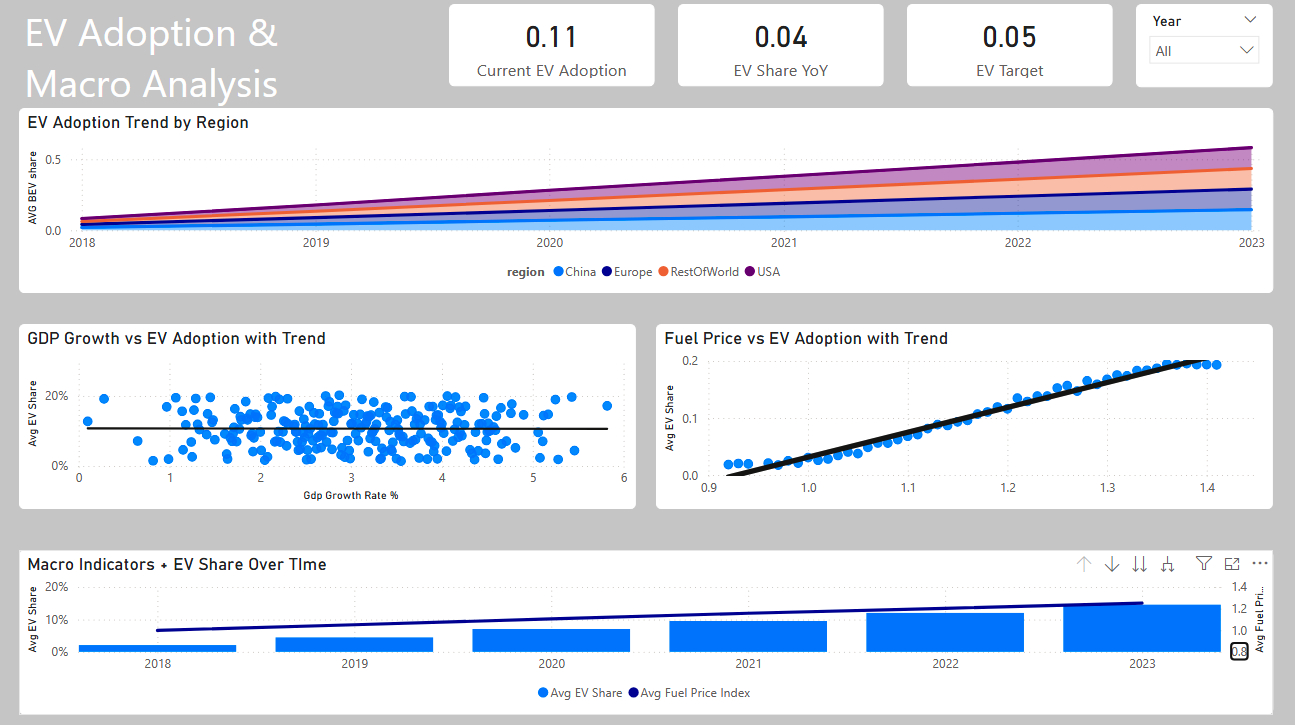

This screenshot's page, from the dashboard's own definition file:
{"tool":"powerbi","page":{"name":"EV Adoption & Macro Trends","canvas":[1280,720],"ordinal":4},"visuals":[{"type":"card","fields":{"Values":["public bmw_data.AVG BEV share"]},"box":[439.1,8.8,200,80],"z":0},{"type":"card","fields":{"Values":["public bmw_data.1EV Share YoY"]},"box":[661.7,8.8,200,80],"z":1000},{"type":"card","fields":{"Values":["Date.EV Target"]},"box":[884.3,8.8,200,80],"z":2000},{"type":"stackedAreaChart","title":"EV Adoption Trend by Region","fields":{"Y":["public bmw_data.AVG BEV share"],"Category":["Date.Date.Variation.Date Hierarchy.Year"],"Series":["public bmw_data.region"]},"box":[20.4,109.9,1219.7,179.9],"z":3000},{"type":"scatterChart","title":"Fuel Price vs EV Adoption with Trend","fields":{"X":["public bmw_data.fuel_price_index"],"Y":["public bmw_data.AVG BEV share"]},"box":[640,320,600.1,179.9],"z":4000},{"type":"scatterChart","title":"GDP Growth vs EV Adoption with Trend","fields":{"X":["public bmw_data.gdp_growth"],"Y":["public bmw_data.Avg EV Share"]},"box":[20,320,600,180],"z":5000},{"type":"lineClusteredColumnComboChart","title":"Macro Indicators + EV Share Over TIme","fields":{"Category":["Date.Date.Variation.Date Hierarchy.Year","Date.Date.Variation.Date Hierarchy.Month"],"Y2":["Avg(public bmw_data.fuel_price_index)"],"Y":["public bmw_data.Avg EV Share"]},"box":[20,540,1220,160],"z":6000},{"type":"slicer","fields":{"Values":["Date.Date.Variation.Date Hierarchy.Year"]},"box":[1106.9,8.8,133.3,80.7],"z":7000},{"type":"textbox","box":[20.4,5,358.9,108],"z":8000}]}

Visuals, with their boxes in screenshot pixels (x1, y1, x2, y2), scaled from the page's 1280x720 canvas onto the 1295x725 screenshot:
card - public bmw_data.AVG BEV share: (444,9,647,89)
card - public bmw_data.1EV Share YoY: (669,9,872,89)
card - Date.EV Target: (895,9,1097,89)
"EV Adoption Trend by Region" stackedAreaChart: (21,111,1255,292)
"Fuel Price vs EV Adoption with Trend" scatterChart: (648,322,1255,503)
"GDP Growth vs EV Adoption with Trend" scatterChart: (20,322,627,503)
"Macro Indicators + EV Share Over TIme" lineClusteredColumnComboChart: (20,544,1255,705)
slicer - Date.Date.Variation.Date Hierarchy.Year: (1120,9,1255,90)
textbox: (21,5,384,114)
